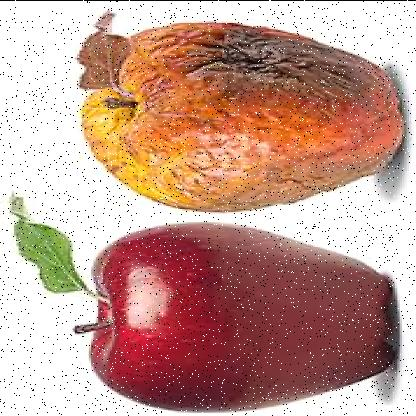apple: (96, 224, 386, 404)
damaged_apple: (84, 19, 402, 208)
